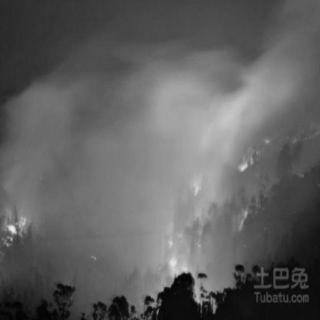Fire: (1, 194, 31, 254)
